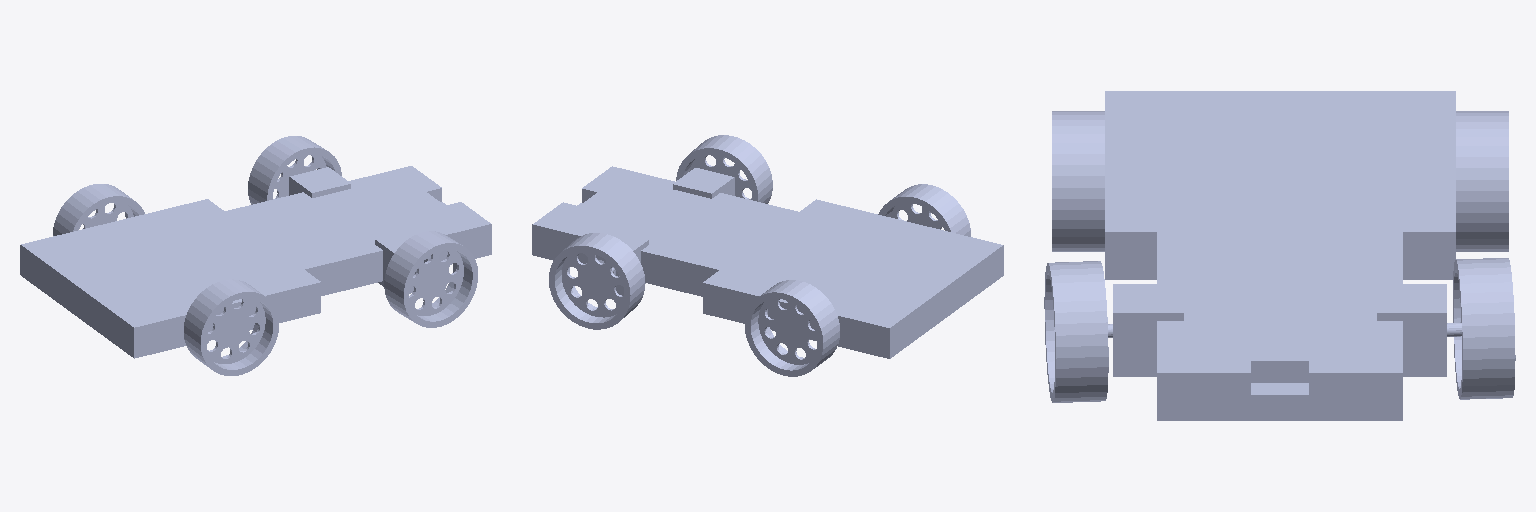
URDF robot description (assem3):
<?xml version="1.0" encoding="utf-8"?>
<!-- This URDF was automatically created by SolidWorks to URDF Exporter! Originally created by [author] ([email redacted]) 
     Commit Version: 1.6.0-4-g7f85cfe  Build Version: 1.6.7995.38578
     For more information, please see http://wiki.ros.org/sw_urdf_exporter -->
<robot name="assem3">
  <link name="dummy_link">
  <pose>"0 0 0 0 0 0"</pose>
  </link>
  <joint name="dummy_joint" type="fixed">
    <parent link="dummy_link" />
    <child link="base_link" />
    <origin xyz = "0 0 0" rpy = "0 0 0" />
    <axis xyz = "0 0 0" />
  </joint>
  <link
    name="base_link">
    <inertial>
      <origin
        xyz="-0.0444736507285622 -1.11022302462516E-16 0.101520628093247"
        rpy="0 0 0" />
      <mass
        value="31.3592902203089" />
      <inertia
        ixx="0.55001310970122"
        ixy="3.98986399474666E-17"
        ixz="0.00126069613122736"
        iyy="2.37534066298956"
        iyz="-2.05659599593344E-18"
        izz="2.89476260275375" />
    </inertial>
    <visual>
      <origin
        xyz="0 0 0"
        rpy="0 0 0" />
      <geometry>
        <mesh
          filename="package://assem3/meshes/base_link.STL" />
      </geometry>
      <material
        name="">
        <color
          rgba="0.792156862745098 0.819607843137255 0.933333333333333 1" />
      </material>
    </visual>
    <collision>
      <origin
        xyz="0 0 0"
        rpy="0 0 0" />
      <geometry>
        <mesh
          filename="package://assem3/meshes/base_link.STL" />
      </geometry>
    </collision>
  </link>
  <link
    name="rear_axle">
    <inertial>
      <origin
        xyz="-2.77555756156289E-16 -1.11022302462516E-16 -0.295909999999999"
        rpy="0 0 0" />
      <mass
        value="0.188974185203894" />
      <inertia
        ixx="0.00541263612744179"
        ixy="1.25116898354713E-21"
        ixz="-8.04945997687602E-19"
        iyy="0.00541263612744179"
        iyz="-1.91426692204395E-20"
        izz="9.74014393773757E-06" />
    </inertial>
    <visual>
      <origin
        xyz="0 0 0"
        rpy="0 0 0" />
      <geometry>
        <mesh
          filename="package://assem3/meshes/rear_axle.STL" />
      </geometry>
      <material
        name="">
        <color
          rgba="0.792156862745098 0.819607843137255 0.933333333333333 1" />
      </material>
    </visual>
    <collision>
      <origin
        xyz="0 0 0"
        rpy="0 0 0" />
      <geometry>
        <mesh
          filename="package://assem3/meshes/rear_axle.STL" />
      </geometry>
    </collision>
  </link>
  <joint
    name="rear_axle_fixed_joint"
    type="fixed">
    <origin
      xyz="-0.254 0.29591 0.1016"
      rpy="-1.5708 0 0" />
    <parent
      link="base_link" />
    <child
      link="rear_axle" />
    <axis
      xyz="0 0 0" />
  </joint>
  <link
    name="rear_right_wheel">
    <inertial>
      <origin
        xyz="2.4980018054066E-15 4.44089209850063E-16 0.00381000000000153"
        rpy="0 0 0" />
      <mass
        value="0.821190144658104" />
      <inertia
        ixx="0.00363823051227157"
        ixy="6.29693475842048E-19"
        ixz="3.88279903021371E-18"
        iyy="0.00363823051227157"
        iyz="6.00057745133937E-19"
        izz="0.00661153859928151" />
    </inertial>
    <visual>
      <origin
        xyz="0 0 0"
        rpy="0 0 0" />
      <geometry>
        <mesh
          filename="package://assem3/meshes/rear_right_wheel.STL" />
      </geometry>
      <material
        name="">
        <color
          rgba="0.792156862745098 0.819607843137255 0.933333333333333 1" />
      </material>
    </visual>
    <collision>
      <origin
        xyz="0 0 0"
        rpy="0 0 0" />
      <geometry>
        <mesh
          filename="package://assem3/meshes/rear_right_wheel.STL" />
      </geometry>
    </collision>
  </link>
  <joint
    name="BR_wheel_joint"
    type="continuous">
    <origin
      xyz="0 0 -0.59182"
      rpy="0 0 0" />
    <parent
      link="rear_axle" />
    <child
      link="rear_right_wheel" />
    <axis
      xyz="0 0 1" />
  </joint>
  <link
    name="rear_left_wheel">
    <inertial>
      <origin
        xyz="0 0 -0.00381000000000031"
        rpy="0 0 0" />
      <mass
        value="0.821190144658107" />
      <inertia
        ixx="0.00363823051227159"
        ixy="-9.14842761672796E-19"
        ixz="-6.7762635780344E-20"
        iyy="0.00363823051227159"
        iyz="2.58241516646231E-19"
        izz="0.00661153859928153" />
    </inertial>
    <visual>
      <origin
        xyz="0 0 0"
        rpy="0 0 0" />
      <geometry>
        <mesh
          filename="package://assem3/meshes/rear_left_wheel.STL" />
      </geometry>
      <material
        name="">
        <color
          rgba="0.792156862745098 0.819607843137255 0.933333333333333 1" />
      </material>
    </visual>
    <collision>
      <origin
        xyz="0 0 0"
        rpy="0 0 0" />
      <geometry>
        <mesh
          filename="package://assem3/meshes/rear_left_wheel.STL" />
      </geometry>
    </collision>
  </link>
  <joint
    name="BL_wheel_joint"
    type="continuous">
    <origin
      xyz="0 0 0"
      rpy="0 0 0" />
    <parent
      link="rear_axle" />
    <child
      link="rear_left_wheel" />
    <axis
      xyz="0 0 1" />
  </joint>
  <link
    name="front_left_clamp">
    <inertial>
      <origin
        xyz="0.0215281779215679 0.00042175756438767 0"
        rpy="0 0 0" />
      <mass
        value="0.641956706482968" />
      <inertia
        ixx="0.00135278722730519"
        ixy="5.35433396448289E-06"
        ixz="6.62362914544401E-21"
        iyy="0.00112506642003246"
        iyz="5.74411426572431E-20"
        izz="0.00100866529819892" />
    </inertial>
    <visual>
      <origin
        xyz="0 0 0"
        rpy="0 0 0" />
      <geometry>
        <mesh
          filename="package://assem3/meshes/front_left_clamp.STL" />
      </geometry>
      <material
        name="">
        <color
          rgba="0.792156862745098 0.819607843137255 0.933333333333333 1" />
      </material>
    </visual>
    <collision>
      <origin
        xyz="0 0 0"
        rpy="0 0 0" />
      <geometry>
        <mesh
          filename="package://assem3/meshes/front_left_clamp.STL" />
      </geometry>
    </collision>
  </link>
  <joint
    name="FL_clamp_joint"
    type="fixed">
    <origin
      xyz="0.25408 0.22109 0.1016"
      rpy="0 0 -1.5943" />
    <parent
      link="base_link" />
    <child
      link="front_left_clamp" />
    <axis
      xyz="0 0 0" />
  </joint>
  <link
    name="front_left_axle">
    <inertial>
      <origin
        xyz="-0.0244949192475701 -0.00235648570810332 -6.42436837061666E-09"
        rpy="0 0 0" />
      <mass
        value="0.0396239878178855" />
      <inertia
        ixx="6.40965190915279E-06"
        ixy="-2.42058002157189E-06"
        ixz="-7.74722210669572E-12"
        iyy="3.13367607740496E-05"
        iyz="4.92179843683267E-11"
        izz="2.74190613086472E-05" />
    </inertial>
    <visual>
      <origin
        xyz="0 0 0"
        rpy="0 0 0" />
      <geometry>
        <mesh
          filename="package://assem3/meshes/front_left_axle.STL" />
      </geometry>
      <material
        name="">
        <color
          rgba="0.792156862745098 0.819607843137255 0.933333333333333 1" />
      </material>
    </visual>
    <collision>
      <origin
        xyz="0 0 0"
        rpy="0 0 0" />
      <geometry>
        <mesh
          filename="package://assem3/meshes/front_left_axle.STL" />
      </geometry>
    </collision>
  </link>
  <joint
    name="FL_steer_joint"
    type="revolute">
    <origin
      xyz="0 0 0"
      rpy="0 0 0" />
    <parent
      link="front_left_clamp" />
    <child
      link="front_left_axle" />
    <axis
      xyz="0 0 -1" />
    <limit
      lower="0"
      upper="0"
      effort="0"
      velocity="0" />
  </joint>
  <link
    name="front_left_wheel">
    <inertial>
      <origin
        xyz="0.000275667714972561 -1.11022302462516E-16 -0.00380001411983177"
        rpy="0 0 0" />
      <mass
        value="0.821190144658104" />
      <inertia
        ixx="0.00365379596559511"
        ixy="2.20995283745918E-18"
        ixz="-0.000214566085175851"
        iyy="0.00363823051227157"
        iyz="-1.96057593139813E-19"
        izz="0.00659597314595797" />
    </inertial>
    <visual>
      <origin
        xyz="0 0 0"
        rpy="0 0 0" />
      <geometry>
        <mesh
          filename="package://assem3/meshes/front_left_wheel.STL" />
      </geometry>
      <material
        name="">
        <color
          rgba="0.792156862745098 0.819607843137255 0.933333333333333 1" />
      </material>
    </visual>
    <collision>
      <origin
        xyz="0 0 0"
        rpy="0 0 0" />
      <geometry>
        <mesh
          filename="package://assem3/meshes/front_left_wheel.STL" />
      </geometry>
    </collision>
  </link>
  <joint
    name="FL_wheel_joint"
    type="continuous">
    <origin
      xyz="-0.077009 -0.0074087 0"
      rpy="-1.5708 0 1.5943" />
    <parent
      link="front_left_axle" />
    <child
      link="front_left_wheel" />
    <axis
      xyz="-0.072354 0 0.99738" />
  </joint>
  <link
    name="front_right_clamp">
    <inertial>
      <origin
        xyz="-0.0215293945463542 -0.000409753083475795 0"
        rpy="0 0 0" />
      <mass
        value="0.641956706482969" />
      <inertia
        ixx="0.00135278722730519"
        ixy="5.35433396448316E-06"
        ixz="3.65008257920842E-20"
        iyy="0.00112506642003246"
        iyz="4.34475241529032E-20"
        izz="0.00100866529819893" />
    </inertial>
    <visual>
      <origin
        xyz="0 0 0"
        rpy="0 0 0" />
      <geometry>
        <mesh
          filename="package://assem3/meshes/front_right_clamp.STL" />
      </geometry>
      <material
        name="">
        <color
          rgba="0.792156862745098 0.819607843137255 0.933333333333333 1" />
      </material>
    </visual>
    <collision>
      <origin
        xyz="0 0 0"
        rpy="0 0 0" />
      <geometry>
        <mesh
          filename="package://assem3/meshes/front_right_clamp.STL" />
      </geometry>
    </collision>
  </link>
  <joint
    name="FR_clamp_joint"
    type="fixed">
    <origin
      xyz="0.2539 -0.22109 0.1016"
      rpy="0 0 -1.5943" />
    <parent
      link="base_link" />
    <child
      link="front_right_clamp" />
    <axis
      xyz="0 0 0" />
  </joint>
  <link
    name="front_right_axle">
    <inertial>
      <origin
        xyz="0.0244696373875344 0.00260594342102161 -6.9781480593889E-09"
        rpy="0 0 0" />
      <mass
        value="0.0396239878815167" />
      <inertia
        ixx="6.46151777008954E-06"
        ixy="-2.67383329521751E-06"
        ixz="8.50737619624083E-12"
        iyy="3.12848948220259E-05"
        iyz="-4.91039396926096E-11"
        izz="2.74190612204381E-05" />
    </inertial>
    <visual>
      <origin
        xyz="0 0 0"
        rpy="0 0 0" />
      <geometry>
        <mesh
          filename="package://assem3/meshes/front_right_axle.STL" />
      </geometry>
      <material
        name="">
        <color
          rgba="0.792156862745098 0.819607843137255 0.933333333333333 1" />
      </material>
    </visual>
    <collision>
      <origin
        xyz="0 0 0"
        rpy="0 0 0" />
      <geometry>
        <mesh
          filename="package://assem3/meshes/front_right_axle.STL" />
      </geometry>
    </collision>
  </link>
  <joint
    name="FR_steer_joint"
    type="revolute">
    <origin
      xyz="0 0 0"
      rpy="0 0 0" />
    <parent
      link="front_right_clamp" />
    <child
      link="front_right_axle" />
    <axis
      xyz="0 0 1" />
    <limit
      lower="0"
      upper="0"
      effort="0"
      velocity="0" />
  </joint>
  <link
    name="front_right_wheel">
    <inertial>
      <origin
        xyz="-0.000314339013796405 -9.8486774291473E-11 0.00379701073452043"
        rpy="0 0 0" />
      <mass
        value="0.821190144658106" />
      <inertia
        ixx="0.00365846939173613"
        ixy="-1.25714609949212E-18"
        ixz="-0.000244472517355173"
        iyy="0.00363823051227158"
        iyz="5.14648760467415E-19"
        izz="0.00659129971981698" />
    </inertial>
    <visual>
      <origin
        xyz="0 0 0"
        rpy="0 0 0" />
      <geometry>
        <mesh
          filename="package://assem3/meshes/front_right_wheel.STL" />
      </geometry>
      <material
        name="">
        <color
          rgba="0.792156862745098 0.819607843137255 0.933333333333333 1" />
      </material>
    </visual>
    <collision>
      <origin
        xyz="0 0 0"
        rpy="0 0 0" />
      <geometry>
        <mesh
          filename="package://assem3/meshes/front_right_wheel.STL" />
      </geometry>
    </collision>
  </link>
  <joint
    name="FR_wheel_joint"
    type="continuous">
    <origin
      xyz="0.076929 0.0081925 0"
      rpy="-1.5708 0 1.5943" />
    <parent
      link="front_right_axle" />
    <child
      link="front_right_wheel" />
    <axis
      xyz="0.082504 0 -0.99659" />
  </joint>

  <transmission name="tr1">
    <type>transmission_interface/SimpleTransmission</type>
    <joint name="BR_wheel_joint">
      <hardwareInterface>hardware_interface/EffortJointInterface</hardwareInterface>
    </joint>
    <actuator name="BR_motor">
      <mechanicalReduction>1</mechanicalReduction>
      <hardwareInterface>hardware_interface/EffortJointInterface</hardwareInterface>
    </actuator>
  </transmission>

  <transmission name="tr2">
    <type>transmission_interface/SimpleTransmission</type>
    <joint name="BL_wheel_joint">
      <hardwareInterface>hardware_interface/EffortJointInterface</hardwareInterface>
    </joint>
    <actuator name="BL_motor">
      <mechanicalReduction>1</mechanicalReduction>
      <hardwareInterface>hardware_interface/EffortJointInterface</hardwareInterface>
    </actuator>
  </transmission>

  <transmission name="tr3">
    <type>transmission_interface/SimpleTransmission</type>
    <joint name="FL_steer_joint">
      <hardwareInterface>hardware_interface/EffortJointInterface</hardwareInterface>
    </joint>
    <actuator name="FL_steer">
      <mechanicalReduction>1</mechanicalReduction>
      <hardwareInterface>hardware_interface/EffortJointInterface</hardwareInterface>
    </actuator>
  </transmission>

  <transmission name="tr4">
    <type>transmission_interface/SimpleTransmission</type>
    <joint name="FR_steer_joint">
      <hardwareInterface>hardware_interface/EffortJointInterface</hardwareInterface>
    </joint>
    <actuator name="FR_steer">
      <mechanicalReduction>1</mechanicalReduction>
      <hardwareInterface>hardware_interface/EffortJointInterface</hardwareInterface>
    </actuator>
  </transmission>

</robot>

--- Facts derived from the render (not from the file) ---
The picture shows the robot from 3 angles, left to right: view 1: azimuth 30°, elevation 25°; view 2: azimuth 150°, elevation 25°; view 3: azimuth 270°, elevation 25°; orthographic projection.
Model assem3 with 11 links and 10 joints (2 revolute, 4 continuous, 4 fixed), rooted at dummy_link, posed all joints at 0.
Links seen in each view (by area): view 1: base_link, front_right_wheel, rear_right_wheel, front_left_wheel, rear_left_wheel, front_left_clamp, front_right_clamp; view 2: base_link, rear_left_wheel, front_left_wheel, front_right_wheel, rear_right_wheel, front_right_clamp, front_left_clamp; view 3: base_link, front_right_wheel, front_left_wheel, rear_right_wheel, rear_left_wheel, front_right_clamp, front_left_clamp.
Boxes of the visible links, x1,y1,x2,y2 form: base_link: [20, 166, 491, 358]; front_right_wheel: [384, 231, 477, 327]; rear_right_wheel: [184, 279, 278, 375]; front_left_wheel: [248, 136, 341, 204]; rear_left_wheel: [53, 184, 144, 235]; front_left_clamp: [289, 167, 350, 197]; front_right_clamp: [375, 230, 430, 293]; base_link: [532, 166, 1003, 358]; rear_left_wheel: [745, 280, 839, 376]; front_left_wheel: [549, 233, 644, 329]; front_right_wheel: [676, 135, 772, 203]; rear_right_wheel: [878, 184, 970, 236]; front_right_clamp: [673, 168, 734, 198]; front_left_clamp: [587, 230, 648, 295]; base_link: [1105, 91, 1455, 420]; front_right_wheel: [1044, 261, 1108, 402]; front_left_wheel: [1453, 258, 1515, 399]; rear_right_wheel: [1052, 111, 1104, 251]; rear_left_wheel: [1456, 111, 1508, 251]; front_right_clamp: [1113, 284, 1183, 376]; front_left_clamp: [1377, 284, 1446, 376].
Bounding box of the posed robot: 0.9652 × 0.6805 × 0.2032 m (x, y, z).
Meshes: 10 distinct files referenced, 10 mesh visuals loaded (10 binary STL).